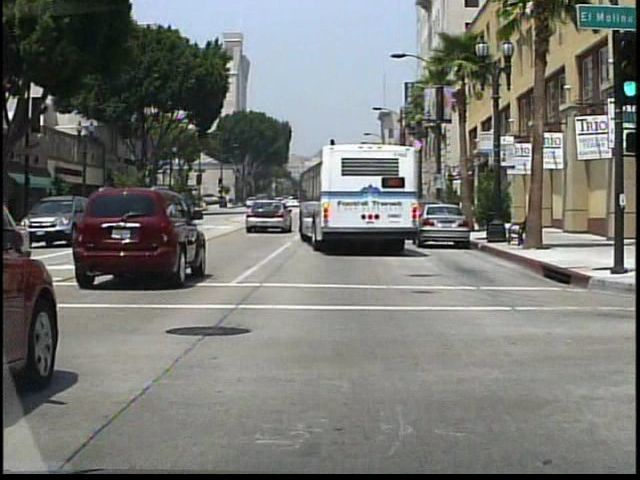person: (450, 188, 464, 227)
